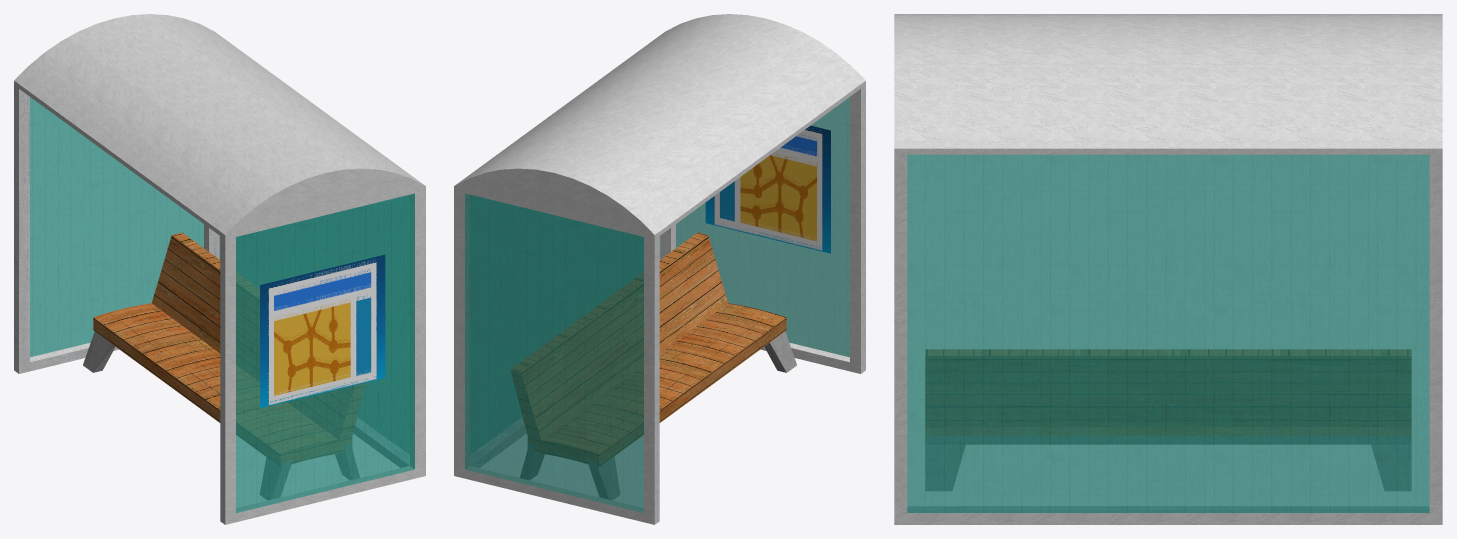
Rendered from Bus_Stop.obj.
3 renders of one model, left to right at view 1: azimuth 30°, elevation 25°; view 2: azimuth 150°, elevation 25°; view 3: azimuth 270°, elevation 25°, orthographic. The views are drawn at different scales.
Visible parts, largest first — view 1: Mesh1 Model, Mesh2 Model; view 2: Mesh1 Model, Mesh2 Model; view 3: Mesh1 Model, Mesh2 Model.
Boxes of the visible parts, x1,y1,x2,y2 form: Mesh1 Model: [14, 14, 425, 524]; Mesh2 Model: [83, 232, 365, 499]; Mesh1 Model: [454, 14, 865, 524]; Mesh2 Model: [511, 232, 796, 499]; Mesh1 Model: [894, 14, 1442, 524]; Mesh2 Model: [925, 349, 1411, 490].
Bounding box in the file's own units: 1.84 × 2.87 × 3.35.
Materials: 7 (5 with a texture image).
